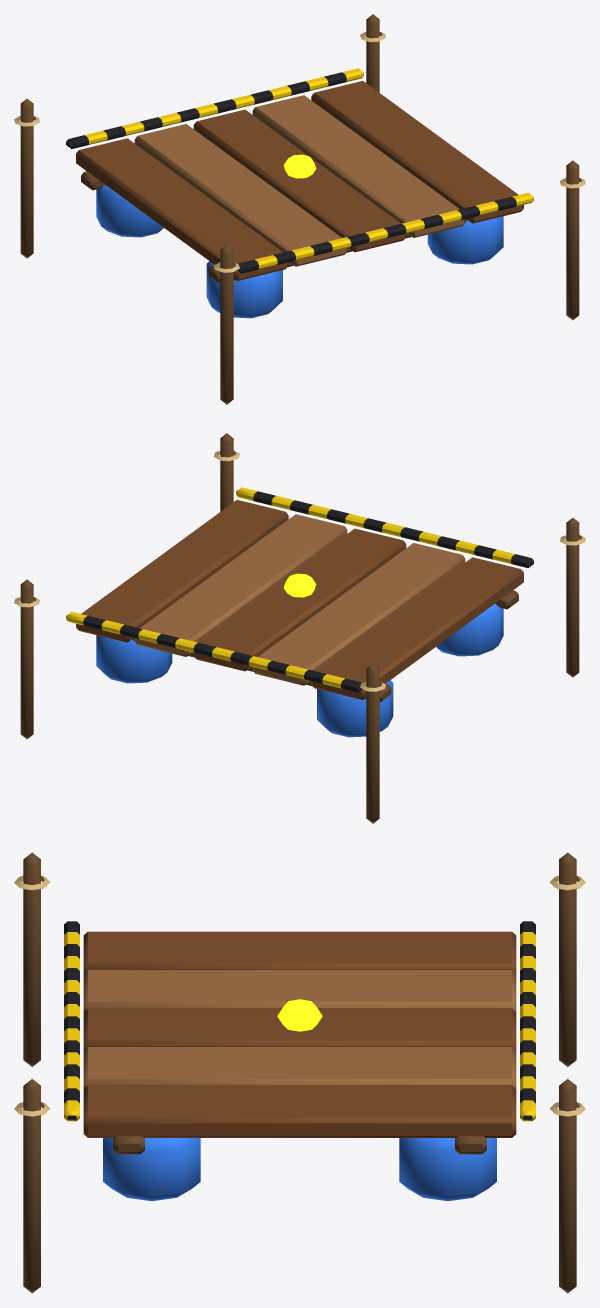
The model's file is H35_SinkingPlatform.fbx.
The picture shows the model from 3 angles, top to bottom: view 1: azimuth 30°, elevation 25°; view 2: azimuth 150°, elevation 25°; view 3: azimuth 270°, elevation 25°; orthographic projection. The views are drawn at different scales.
Parts seen in each view (by area): view 1: Deck, Static; view 2: Deck, Static; view 3: Deck, Static.
Part boxes in pixels (bbox=[...]): Deck: bbox=[66, 68, 533, 318]; Static: bbox=[14, 14, 585, 404]; Deck: bbox=[66, 487, 533, 737]; Static: bbox=[14, 433, 585, 823]; Deck: bbox=[64, 921, 535, 1201]; Static: bbox=[14, 852, 585, 1293].
Bounding box in the file's own units: 5.02 × 2.08 × 5.02.
